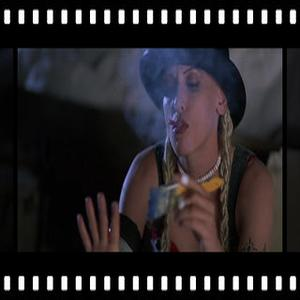cigarette: (160, 182, 186, 193)
